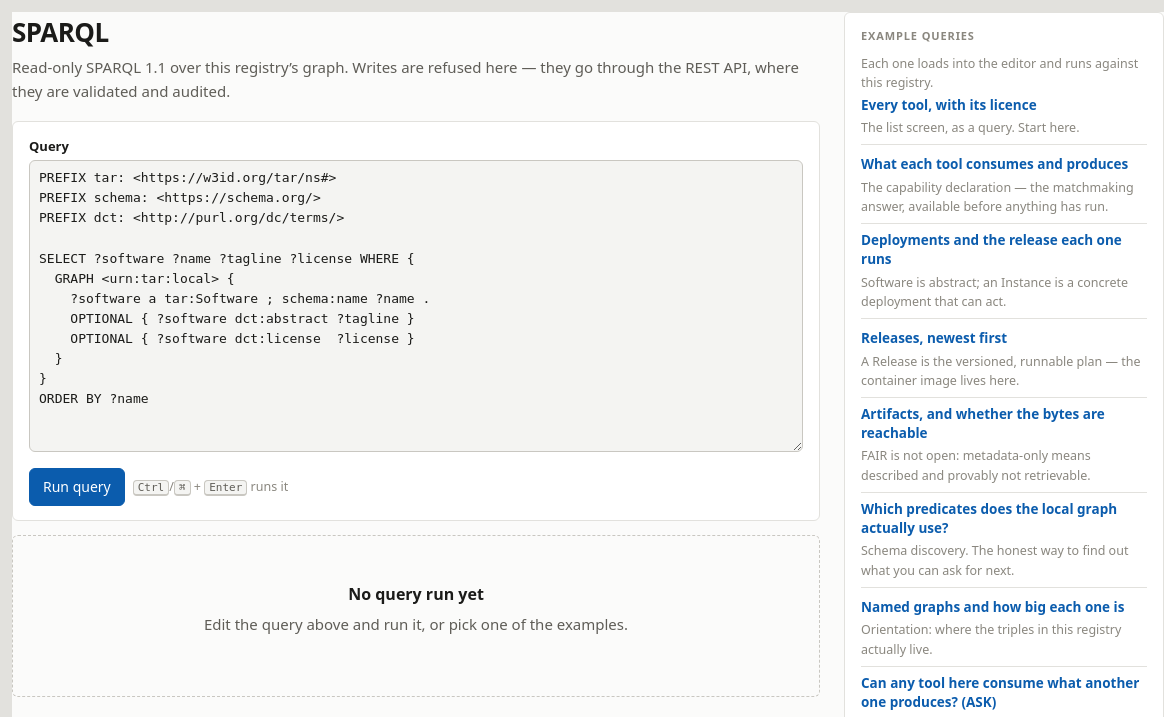
Test: Sparql › shows the datatype of a typed literal
Click the button "Run query" at (77, 487), box [29, 468, 125, 506]
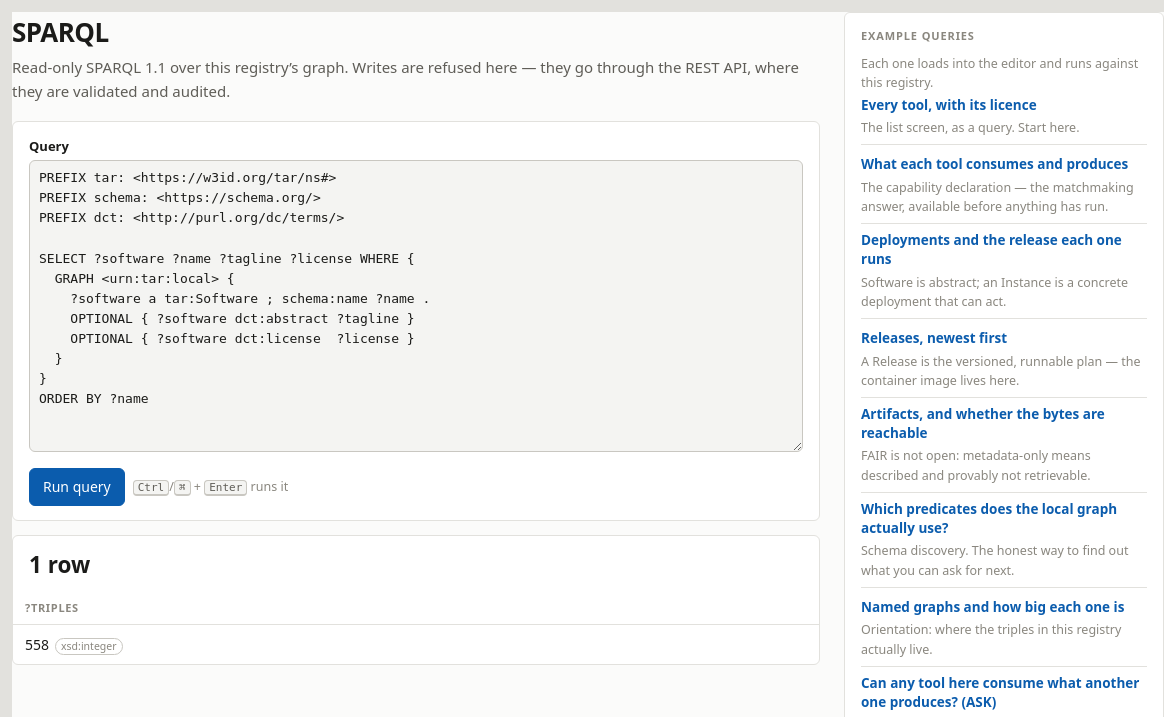
Now the text "558" is shown, box [25, 634, 49, 656]
Now the text "xsd:integer" is shown, box [55, 638, 122, 655]
